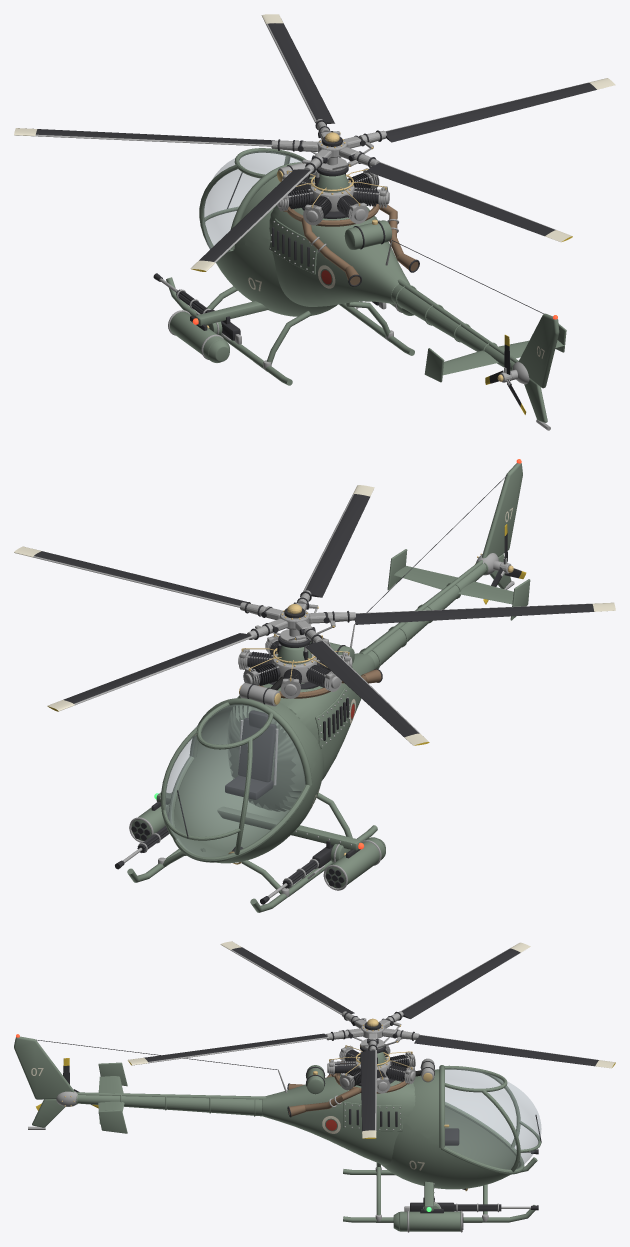
The model's file is choppa.glb.
3 renders of one model, top to bottom at view 1: azimuth 30°, elevation 25°; view 2: azimuth 150°, elevation 25°; view 3: azimuth 270°, elevation 25°, orthographic. The views are drawn at different scales.
Parts seen in each view (by area): view 1: body, rotor, tail_rotor; view 2: body, rotor; view 3: body, rotor.
Part boxes in pixels (x1,y1,x2,y2): body: (153,148,566,430); rotor: (14,14,615,271); tail_rotor: (485,334,526,414); body: (115,459,530,912); rotor: (14,485,615,745); body: (14,1034,541,1232); rotor: (128,941,615,1138).
Bounding box in the file's own units: 7.88 × 3.34 × 10.17.
